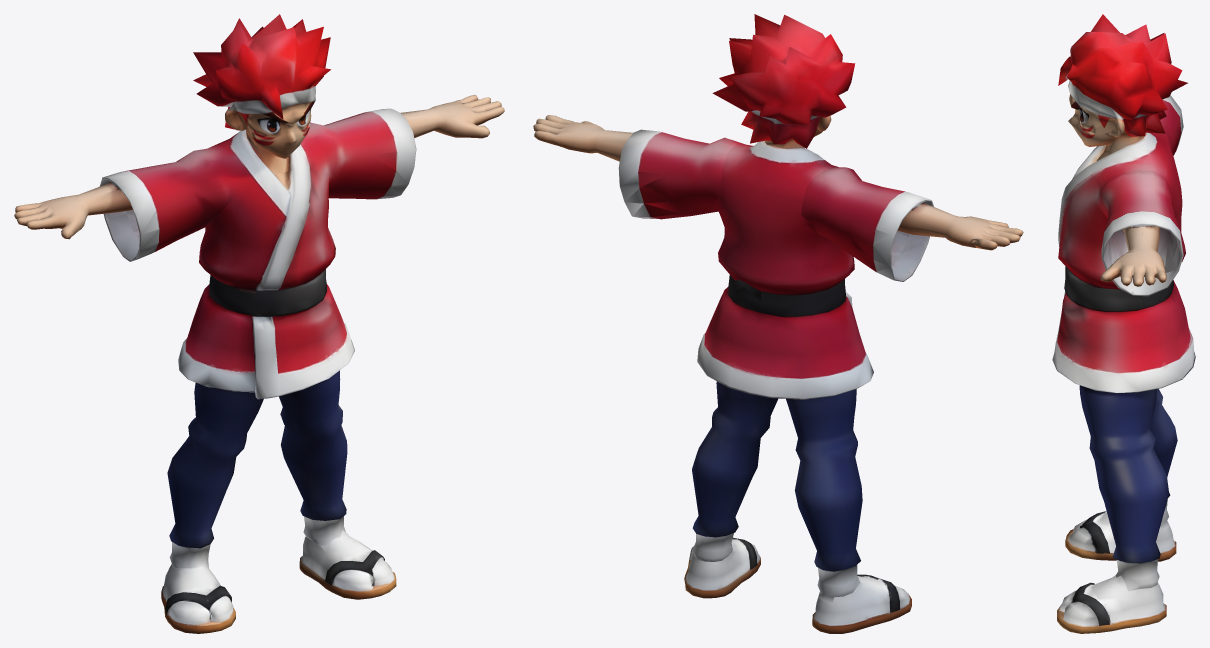
The model's file is komabure_chara_kakeru.glb.
The picture shows the model from 3 angles, left to right: view 1: azimuth 30°, elevation 25°; view 2: azimuth 150°, elevation 25°; view 3: azimuth 270°, elevation 25°; orthographic projection. The views are drawn at different scales.
Visible parts, largest first — view 1: tripo_part_1, tripo_part_5, tripo_part_0, tripo_part_10, tripo_part_8, tripo_part_7, tripo_part_9, tripo_part_6, tripo_part_4, tripo_part_2, tripo_part_3; view 2: tripo_part_1, tripo_part_5, tripo_part_0, tripo_part_10, tripo_part_8, tripo_part_7, tripo_part_9, tripo_part_4, tripo_part_2, tripo_part_6, tripo_part_3; view 3: tripo_part_1, tripo_part_7, tripo_part_0, tripo_part_5, tripo_part_9, tripo_part_6, tripo_part_3, tripo_part_4, tripo_part_10, tripo_part_8.
Part boxes in pixels (x1,y1,x2,y2): tripo_part_1: (178,269,354,399); tripo_part_5: (199,129,335,292); tripo_part_0: (193,14,330,174); tripo_part_10: (167,383,263,569); tripo_part_8: (99,148,231,261); tripo_part_7: (279,370,347,545); tripo_part_9: (308,108,416,199); tripo_part_6: (299,530,396,599); tripo_part_4: (161,564,235,633); tripo_part_2: (14,181,132,239); tripo_part_3: (401,95,504,138); tripo_part_1: (697,275,873,399); tripo_part_5: (715,141,854,295); tripo_part_0: (712,14,855,148); tripo_part_10: (786,389,862,602); tripo_part_8: (801,167,933,281); tripo_part_7: (692,381,778,561); tripo_part_9: (618,129,744,219); tripo_part_4: (812,574,911,633); tripo_part_2: (897,202,1023,250); tripo_part_6: (684,537,760,598); tripo_part_3: (533,115,633,161); tripo_part_1: (1052,266,1195,393); tripo_part_7: (1079,385,1169,591); tripo_part_0: (1058,14,1187,161); tripo_part_5: (1058,132,1185,289); tripo_part_9: (1097,170,1183,296); tripo_part_6: (1057,575,1166,633); tripo_part_3: (1100,225,1166,286); tripo_part_4: (1065,511,1176,561); tripo_part_10: (1150,389,1177,528); tripo_part_8: (1160,95,1183,155).
Bounding box in the file's own units: 0.8842 × 0.9974 × 0.2323.
12 materials, 12 textured.
